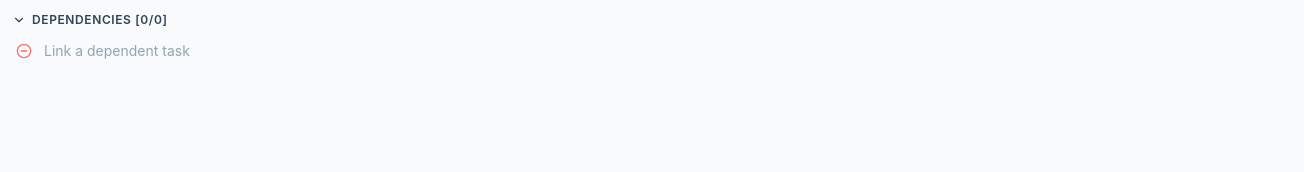
Scenario: TaskDependencies › linking a task › links in the Waiting on direction after switching the add-row icon
This screenshot has width=1304, height=172.
Later steps or results of the test are not shown.
Click the button named "Dependency type: Blocking".
click(24, 50)  # box [12, 38, 36, 62]
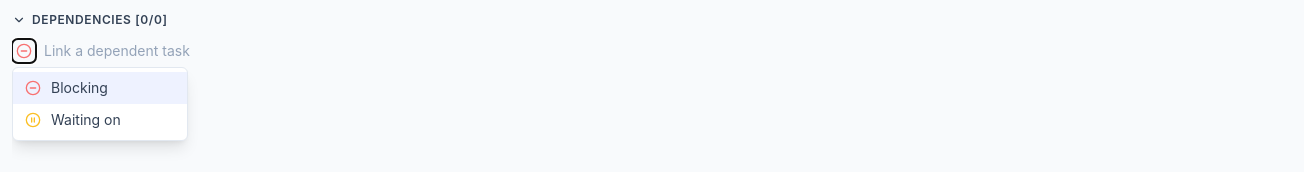
Click the menu item "Waiting on".
click(100, 120)  # box [13, 104, 187, 136]
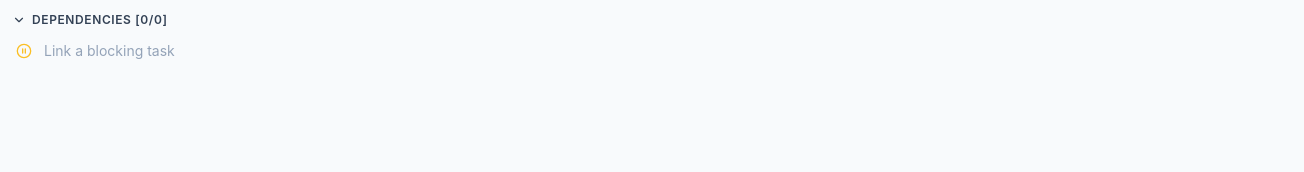
Check: the dropdown has attribute placeholder="Link a blocking task", box [44, 39, 1292, 63]
